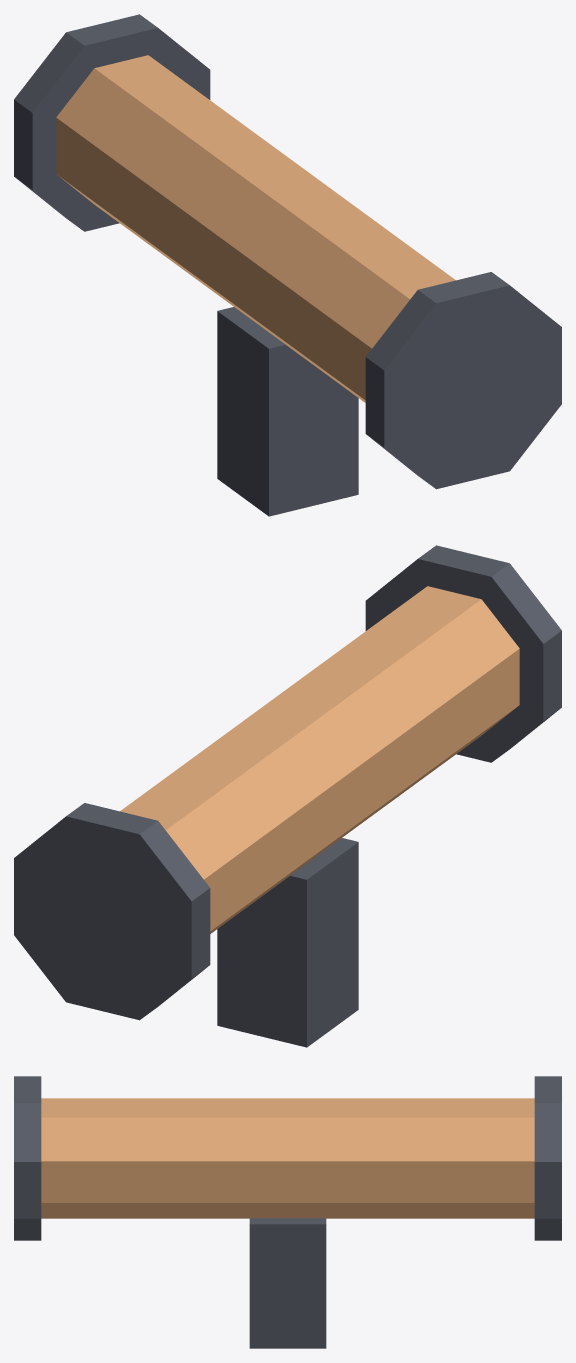
The model's file is cano_reto.glb.
3 renders of one model, top to bottom at view 1: azimuth 30°, elevation 25°; view 2: azimuth 150°, elevation 25°; view 3: azimuth 270°, elevation 25°, orthographic. The views are drawn at different scales.
Visible parts, largest first — view 1: cano_reto; view 2: cano_reto; view 3: cano_reto.
Boxes of the visible parts, x1=… form: cano_reto: x1=14, y1=14, x2=561, y2=516; cano_reto: x1=14, y1=545, x2=561, y2=1047; cano_reto: x1=14, y1=1076, x2=561, y2=1348.
Bounding box in the file's own units: 0.2772 × 0.4886 × 1.
